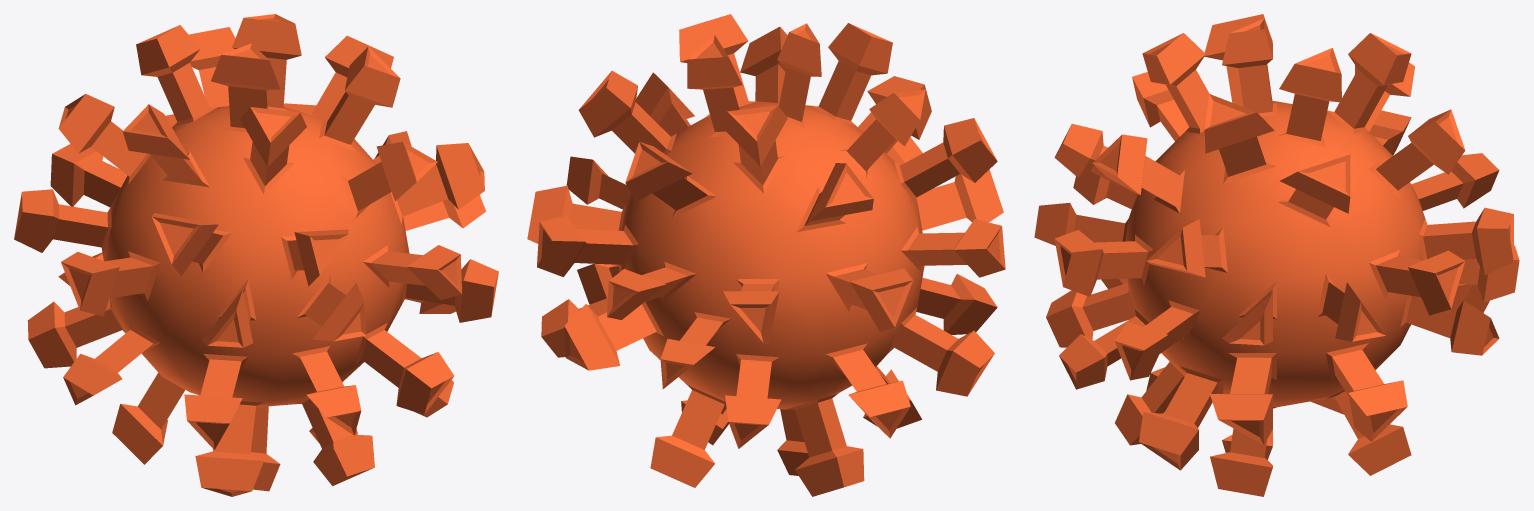
The picture shows the model from 3 angles, left to right: view 1: azimuth 30°, elevation 25°; view 2: azimuth 150°, elevation 25°; view 3: azimuth 270°, elevation 25°; orthographic projection.
Visible parts, largest first — view 1: GeoSphere001; view 2: GeoSphere001; view 3: GeoSphere001.
Boxes of the visible parts, x1=… form: GeoSphere001: x1=14, y1=14, x2=498, y2=496; GeoSphere001: x1=527, y1=14, x2=1005, y2=496; GeoSphere001: x1=1034, y1=14, x2=1519, y2=496.
Bounding box in the file's own units: 204 × 207 × 207.
